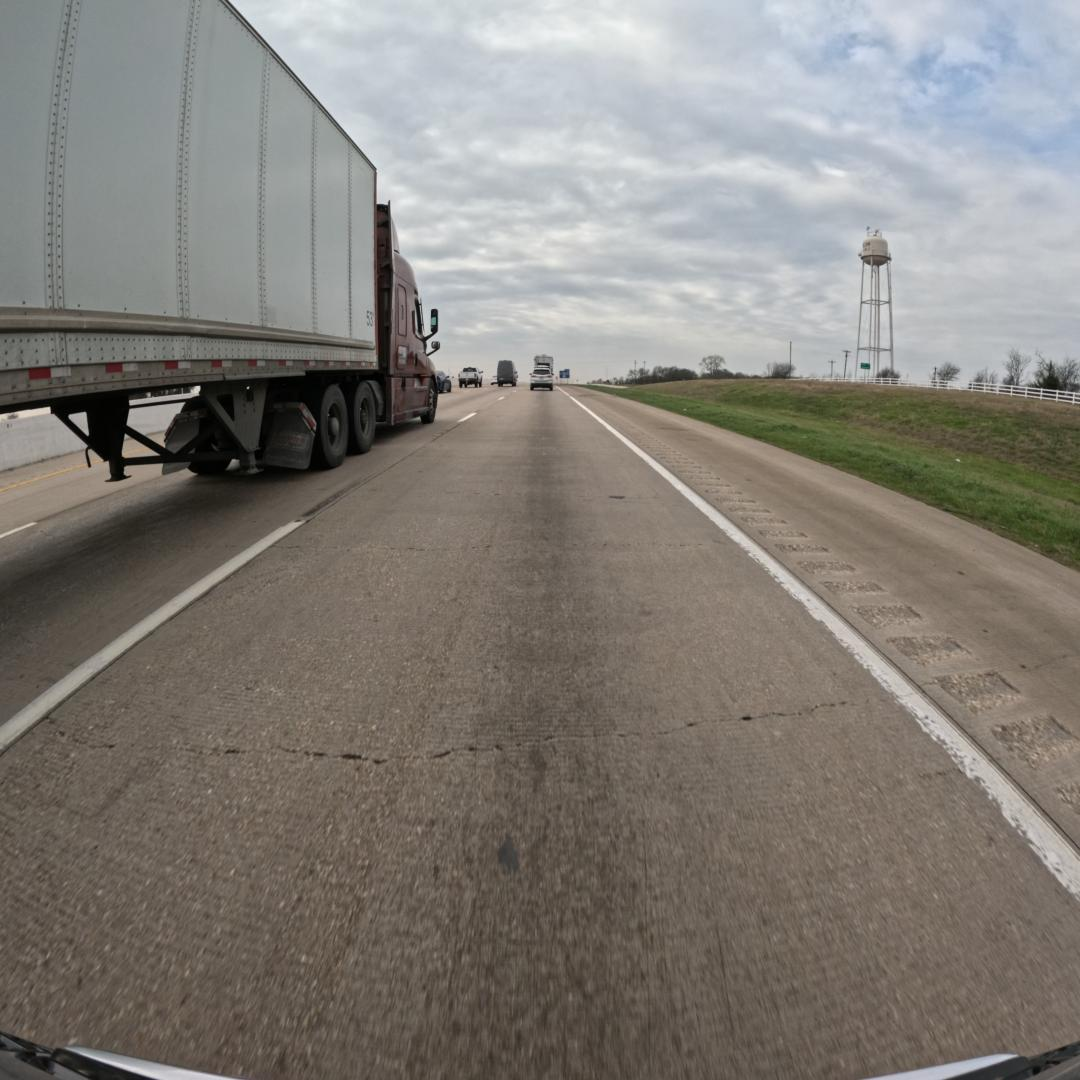lane0: (0, 391, 1080, 1080)
lane1: (0, 391, 500, 753)
